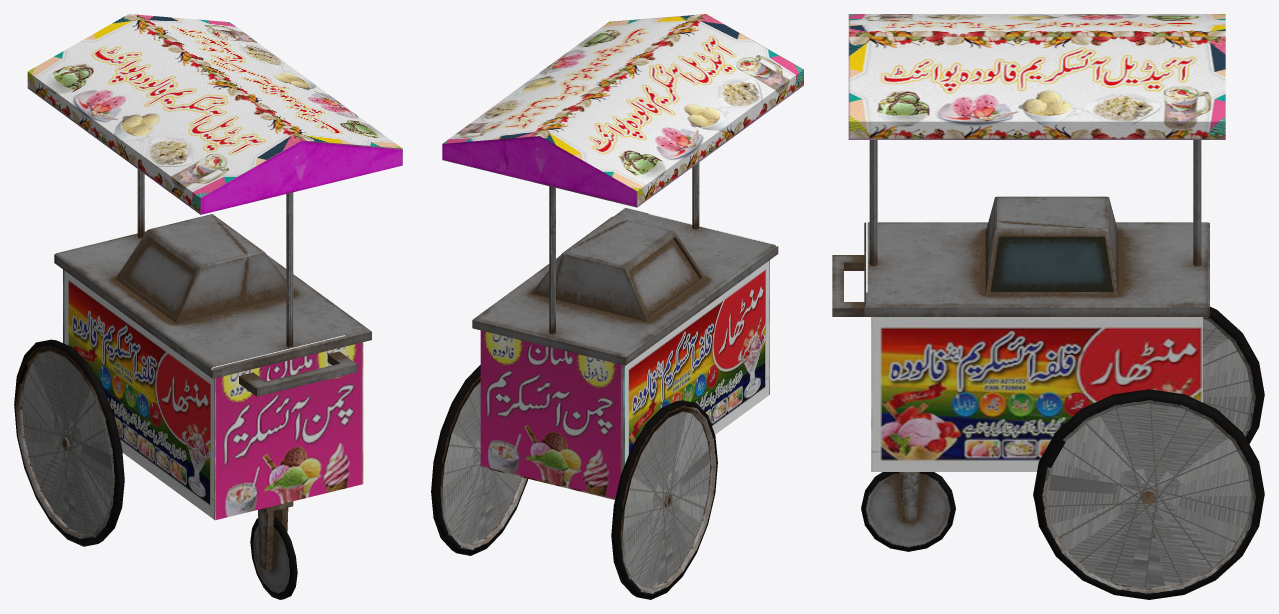
The model's file is IceCream.fbx.
3 renders of one model, left to right at view 1: azimuth 30°, elevation 25°; view 2: azimuth 150°, elevation 25°; view 3: azimuth 270°, elevation 25°, orthographic. The views are drawn at different scales.
Parts seen in each view (by area): view 1: cart, wheel2:polySurface002, wheel_small; view 2: cart, wheel2:polySurface002, wheel2:polySurface1; view 3: cart, wheel2:polySurface1, wheel2:polySurface002, wheel_small.
Boxes of the visible parts, x1,y1,x2,y2 form: cart: (27, 14, 402, 570); wheel2:polySurface002: (14, 339, 124, 546); wheel_small: (250, 517, 297, 599); cart: (442, 14, 803, 506); wheel2:polySurface002: (611, 400, 717, 599); wheel2:polySurface1: (431, 365, 527, 555); cart: (832, 14, 1225, 522); wheel2:polySurface1: (1033, 389, 1264, 599); wheel2:polySurface002: (1203, 306, 1264, 443); wheel_small: (861, 472, 955, 551).
Size of the model in its own units: 49.03 by 110 by 83.36.
Materials: 2 (2 with a texture image).
